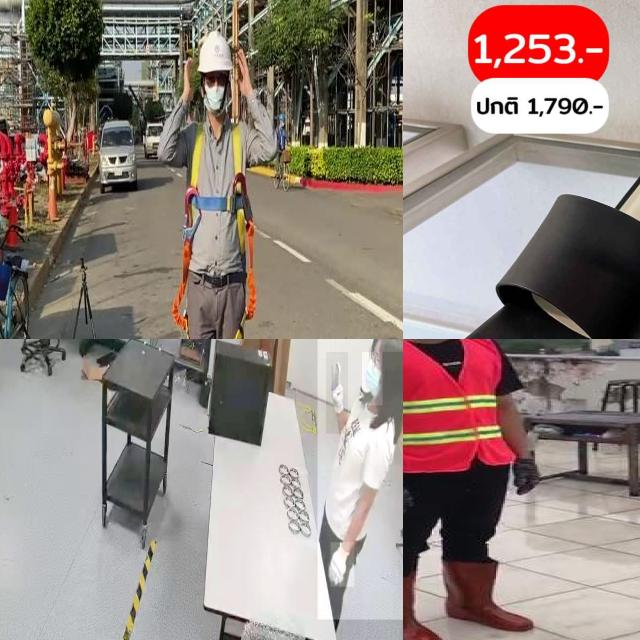Harness: (172, 124, 258, 339)
Sandals: (412, 55, 640, 339)
boots: (436, 560, 538, 634), (403, 565, 447, 640)
face_mask: (362, 352, 382, 405)
hand_glove: (326, 352, 348, 434), (331, 542, 355, 588), (513, 456, 541, 492), (403, 479, 420, 515)
head_nohelmet: (371, 339, 403, 352)
person: (403, 339, 550, 640), (317, 339, 403, 620)
vest: (403, 339, 519, 472)
